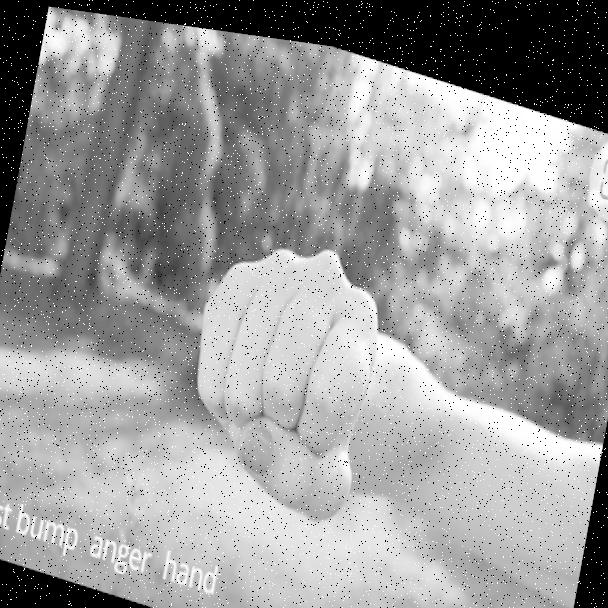five: (164, 197, 398, 543)
